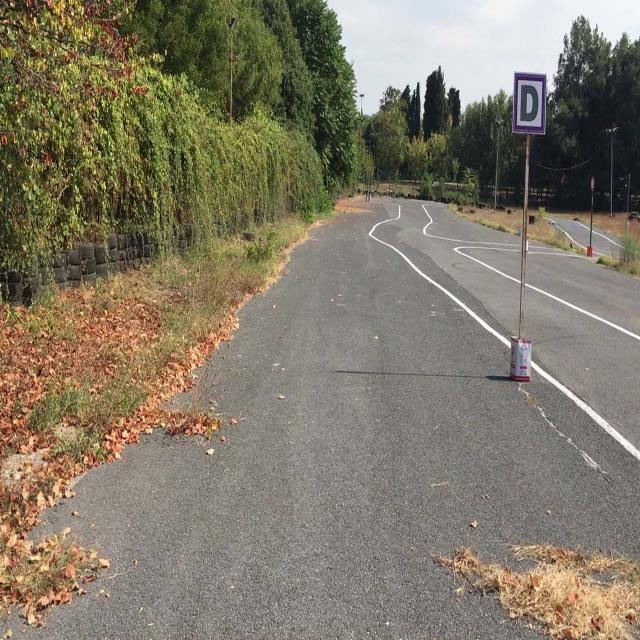durak: (514, 73, 544, 133)
